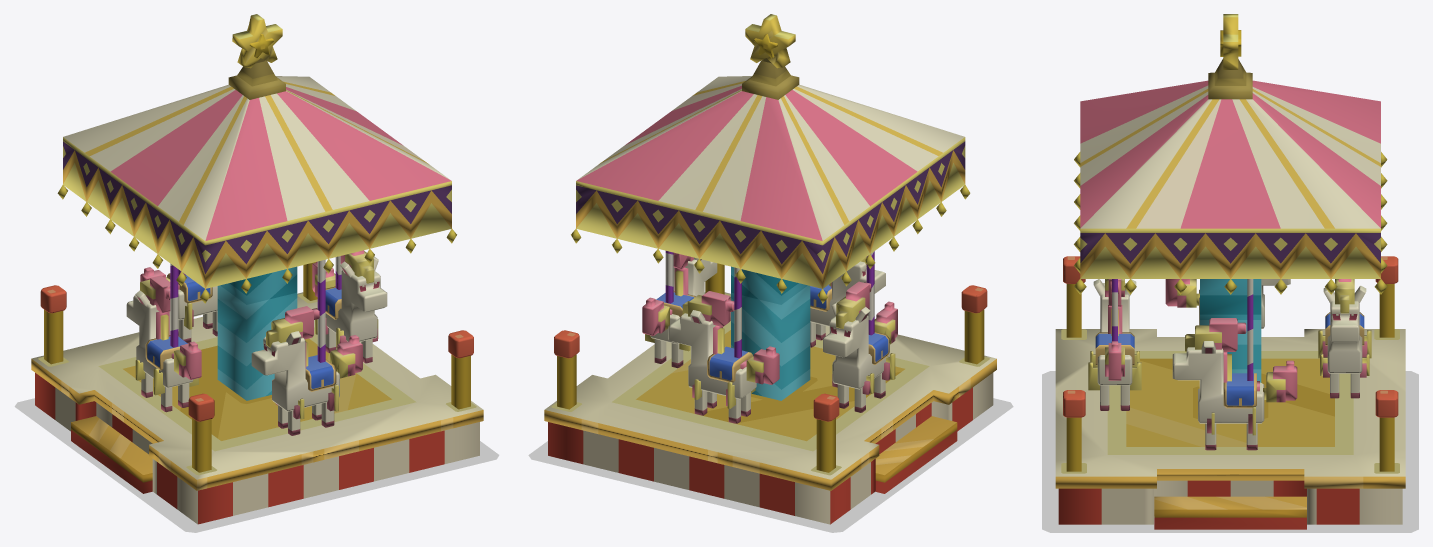
File: G_makeover_M33_carousel_1.fbx
3 renders of one model, left to right at view 1: azimuth 30°, elevation 25°; view 2: azimuth 150°, elevation 25°; view 3: azimuth 270°, elevation 25°, orthographic. The views are drawn at different scales.
Parts seen in each view (by area): view 1: carousel, ponyta, ponyta1, ponyta3, ground, ponyta2; view 2: carousel, ponyta2, ponyta1, ground, ponyta3, ponyta; view 3: carousel, ponyta3, ground, ponyta, ponyta2, ponyta1.
Boxes of the visible parts, x1,y1,x2,y2 form: carousel: (31, 14, 483, 524); ponyta: (251, 259, 362, 435); ponyta1: (126, 263, 201, 412); ponyta3: (312, 250, 387, 363); ground: (14, 398, 499, 532); ponyta2: (140, 267, 217, 343); carousel: (544, 14, 996, 524); ponyta2: (668, 267, 779, 423); ponyta1: (823, 251, 897, 412); ground: (528, 398, 1013, 532); ponyta3: (642, 251, 717, 368); ponyta: (810, 257, 885, 347); carousel: (1055, 14, 1405, 529); ponyta3: (1172, 279, 1297, 450); ground: (1042, 371, 1418, 532); ponyta: (1088, 279, 1141, 410); ponyta2: (1318, 279, 1371, 398); ponyta1: (1165, 279, 1290, 328).
Bounding box in the file's own units: 9.87 × 12.4 × 9.7.
